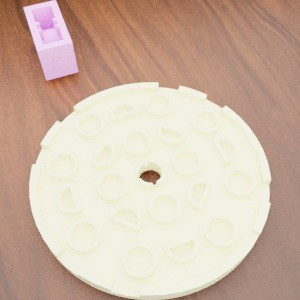lego: (29, 82, 270, 299), (23, 0, 78, 80)
